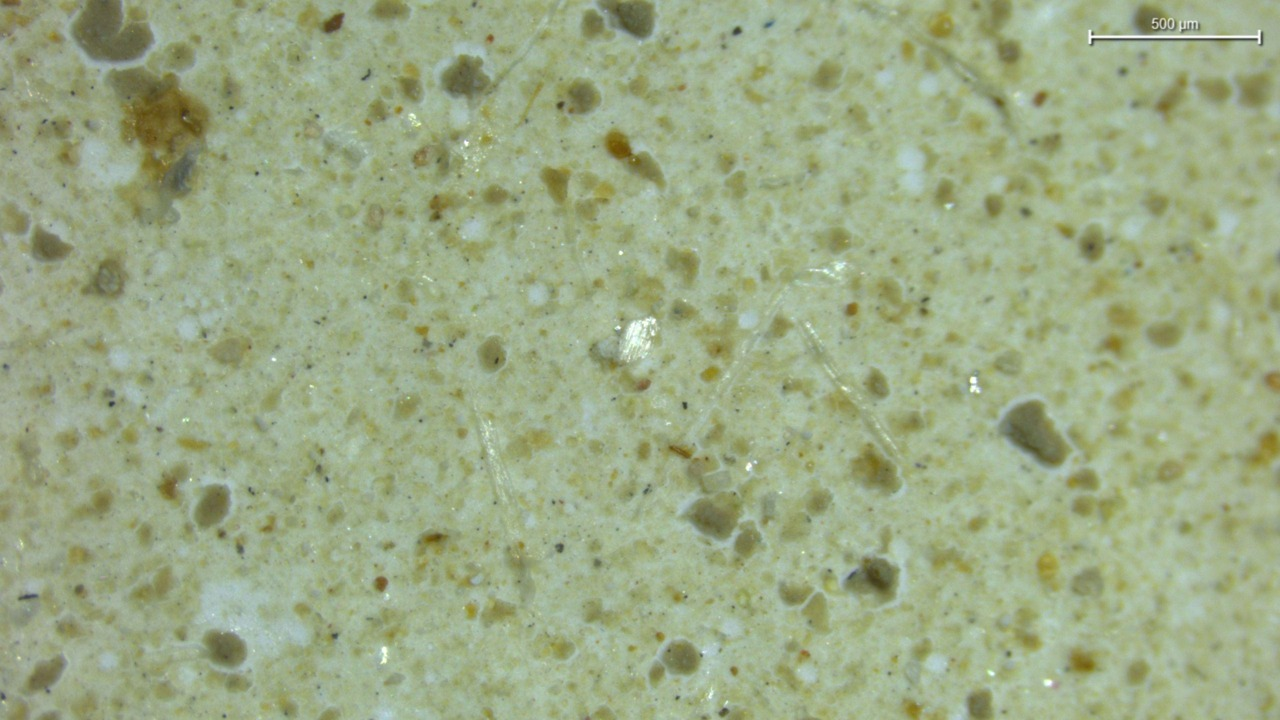microplastic_fragment: (613, 317, 660, 365), (591, 336, 620, 364)
